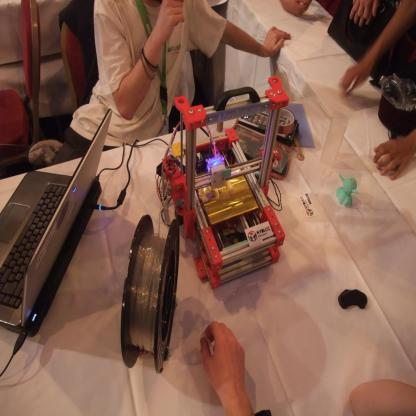board: (0, 118, 99, 366)
